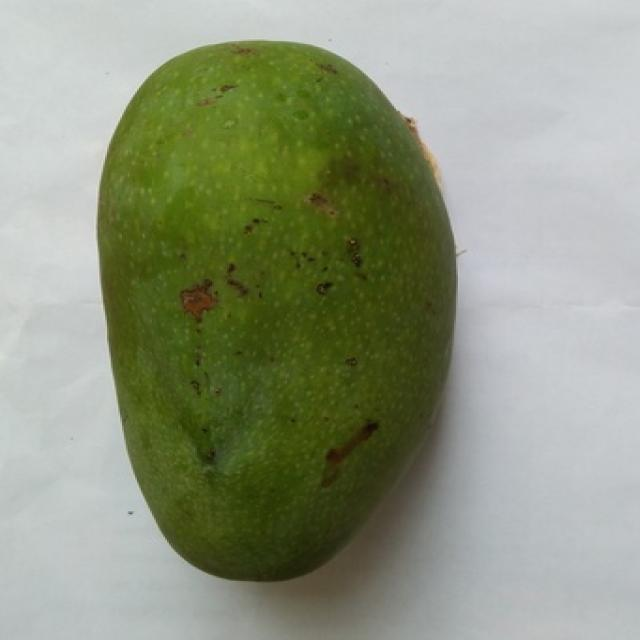Mango: (98, 42, 454, 579)
